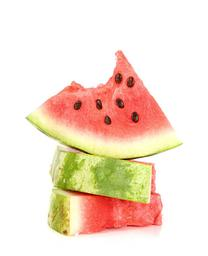watermelon: (22, 45, 181, 233)
